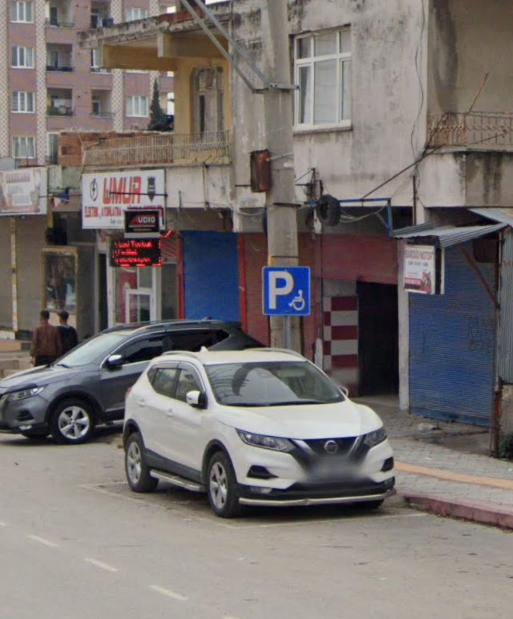disabledpark: (266, 265, 307, 317)
